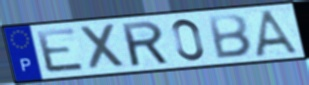0: (170, 17, 206, 62)
A: (253, 8, 305, 58)
B: (206, 13, 254, 60)
E: (33, 26, 88, 75)
R: (119, 19, 172, 68)
X: (77, 22, 128, 73)
